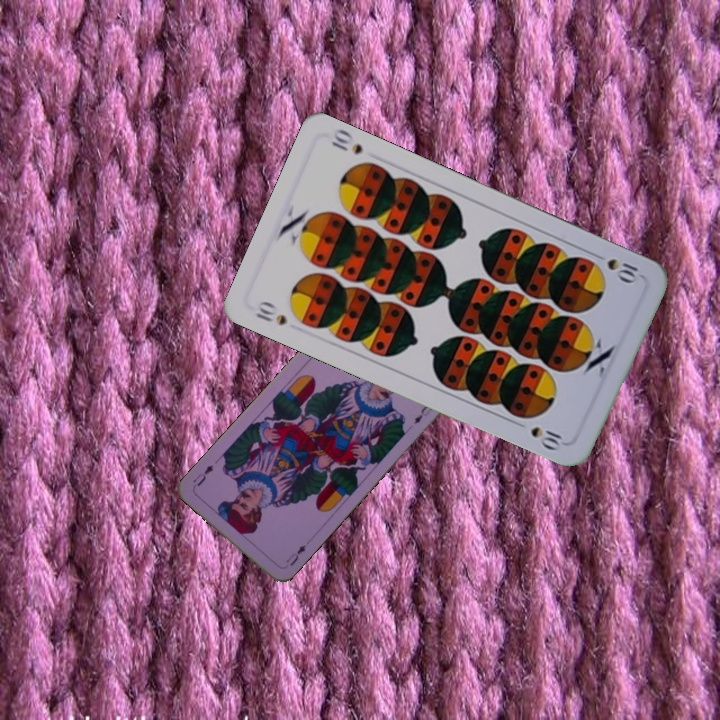EU: (282, 541, 309, 569)
S10: (588, 248, 641, 286), (251, 296, 290, 328)
